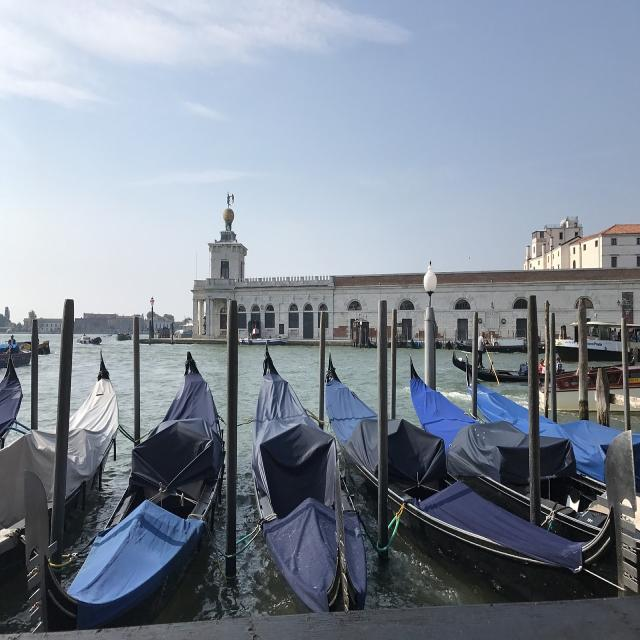boat: (314, 323, 625, 585), (38, 321, 229, 640), (409, 299, 640, 562), (247, 307, 375, 615)
